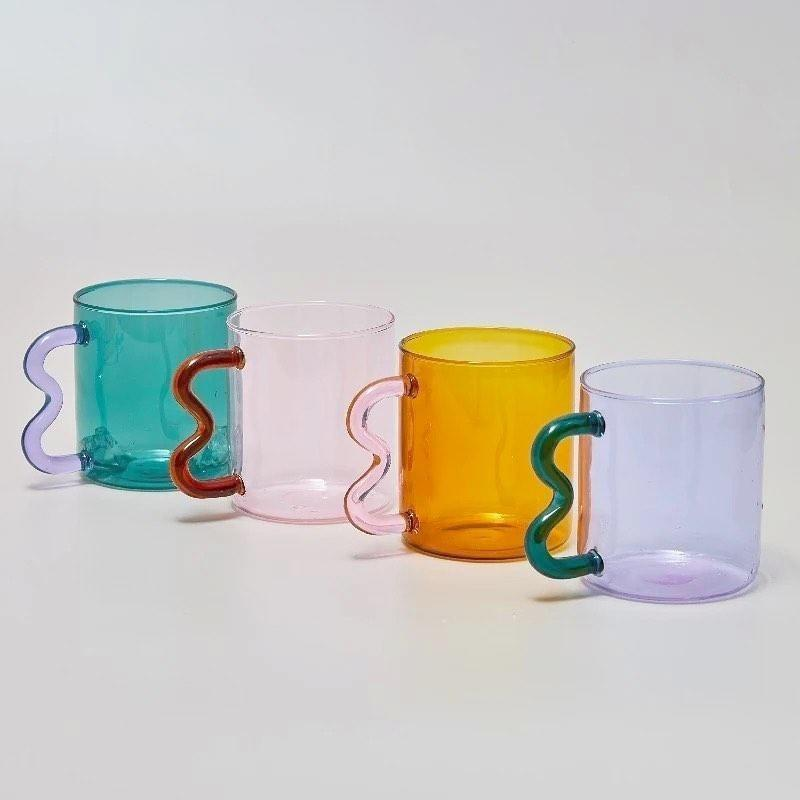glass-mug: (520, 355, 773, 611), (342, 321, 584, 575), (169, 296, 405, 528), (16, 270, 246, 499)
